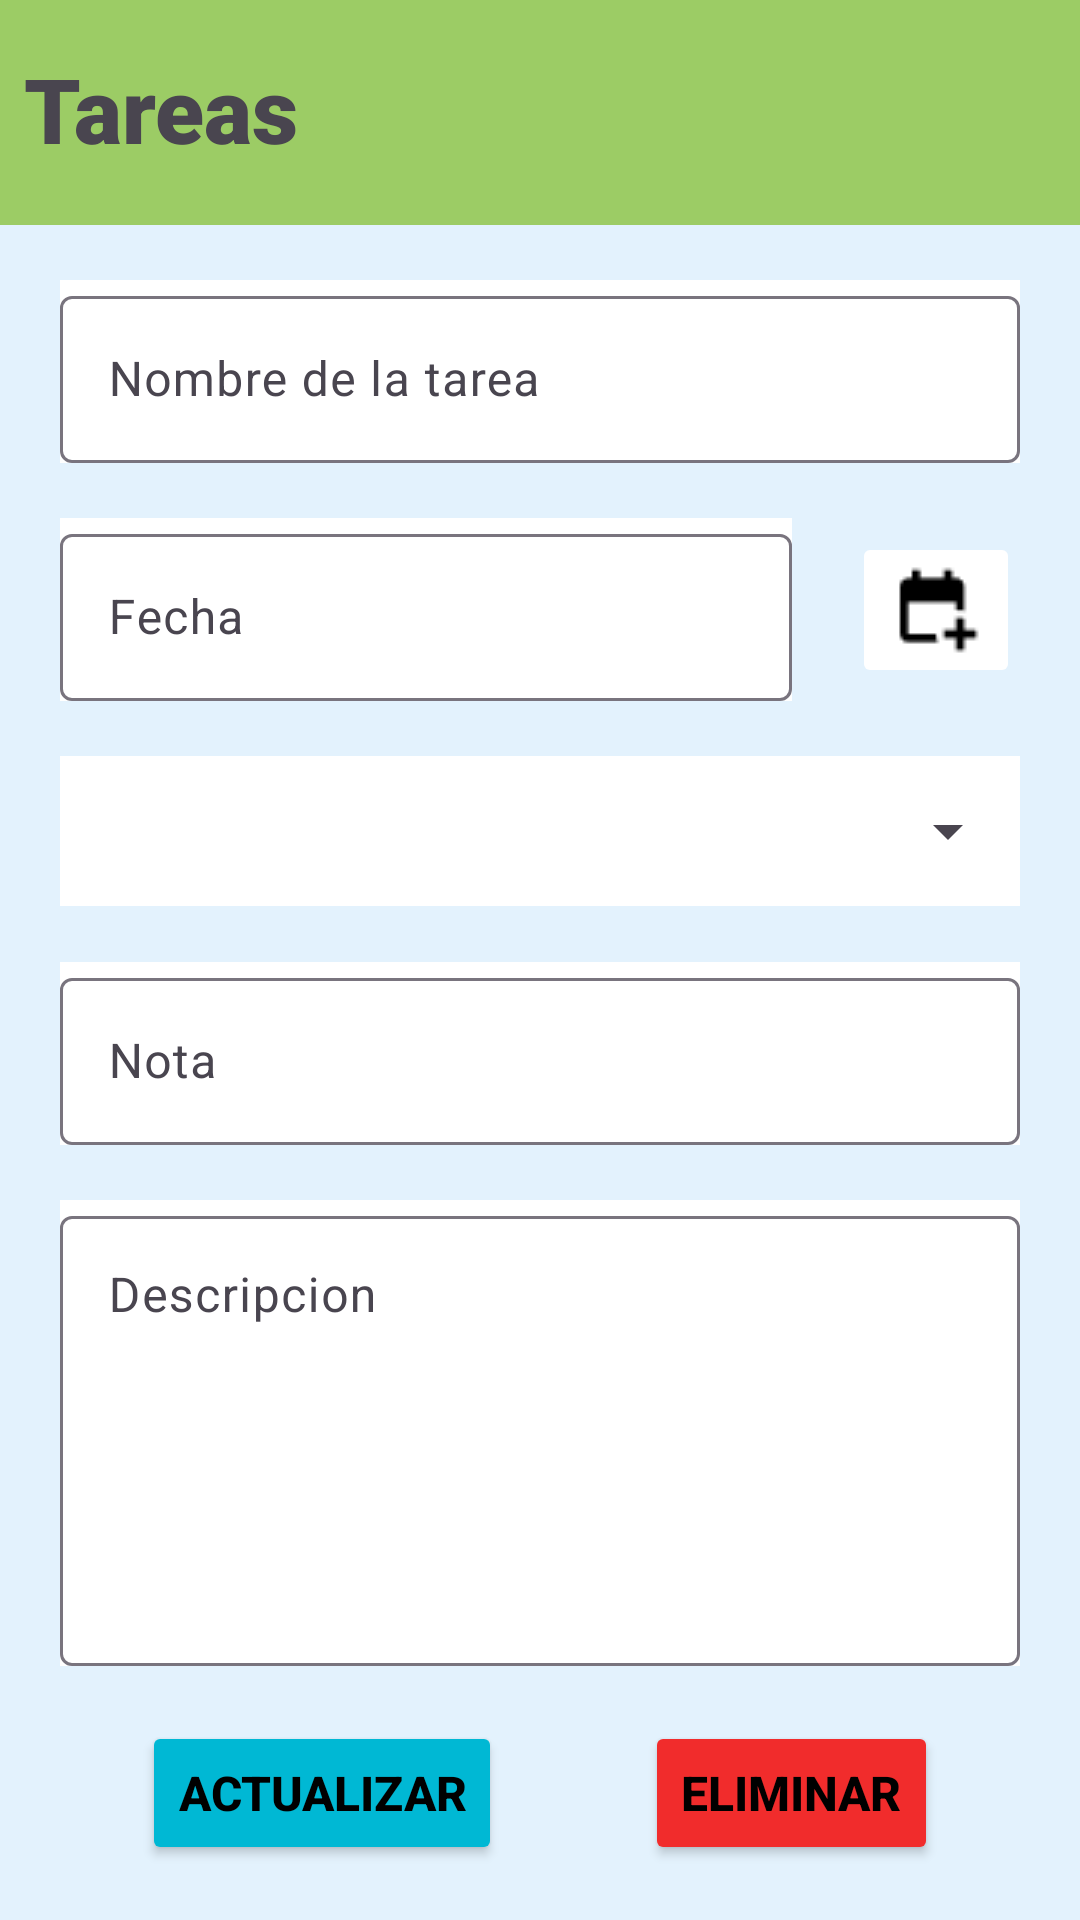

Point at icon controls on the screen. Image size 1080w x 1920h, points as point (x, y).
calendar: point (936, 610)
